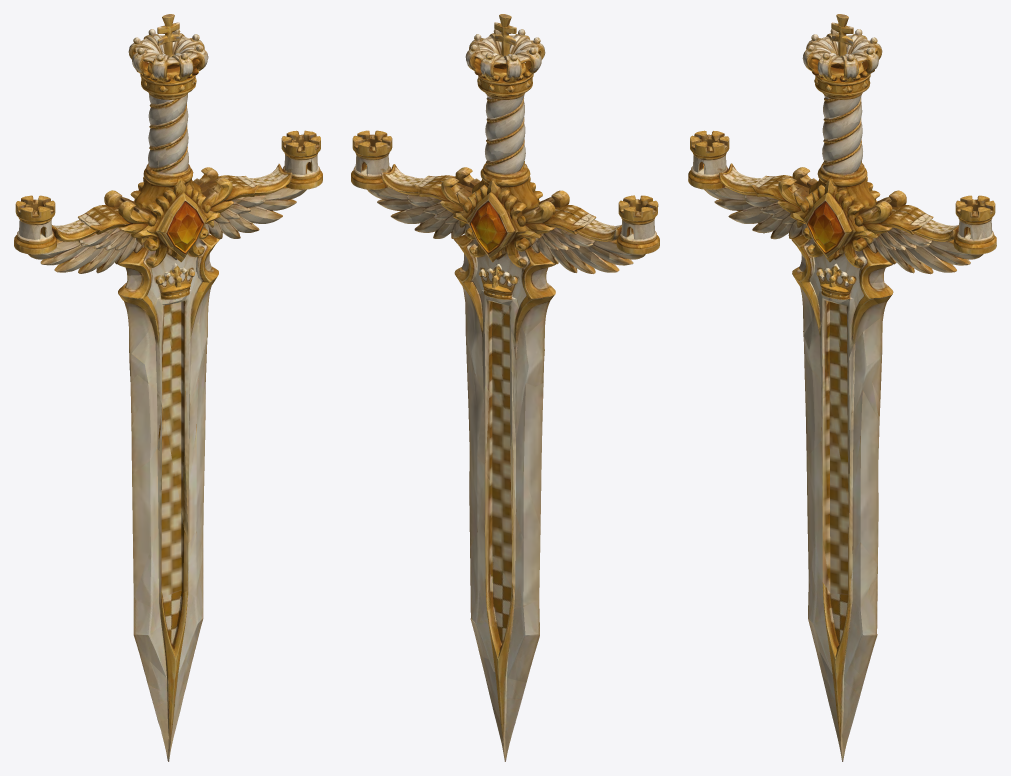
The model's file is prop_chesssword.glb.
3 views of the same model, side by side, from view 1: azimuth 30°, elevation 25°; view 2: azimuth 150°, elevation 25°; view 3: azimuth 330°, elevation 25° (orthographic).
Visible parts, largest first — view 1: output_unwrapped; view 2: output_unwrapped; view 3: output_unwrapped.
Part boxes in pixels (<box>): output_unwrapped: <box>14,14,322,761</box>; output_unwrapped: <box>351,14,659,761</box>; output_unwrapped: <box>688,14,996,761</box>.
Size of the model in its own units: 0.815 by 1.92 by 0.1891.
Materials: 1 (1 with a texture image).
